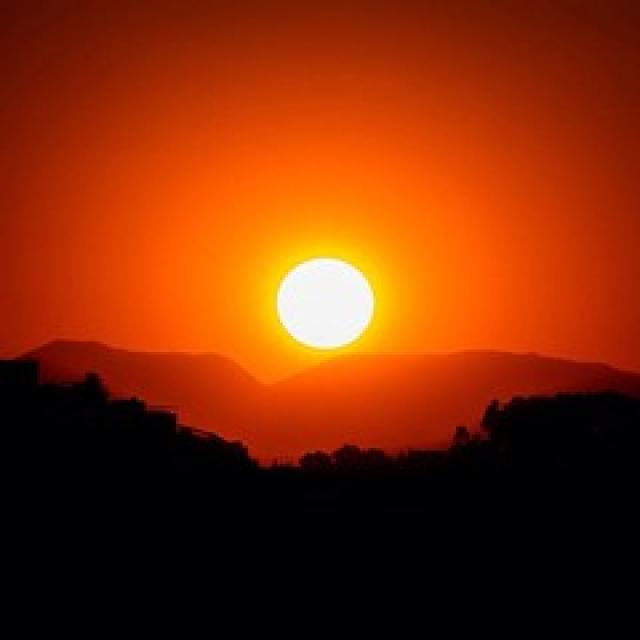sun: (250, 218, 401, 392)
